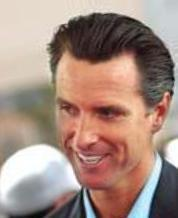face: (55, 96, 125, 169)
